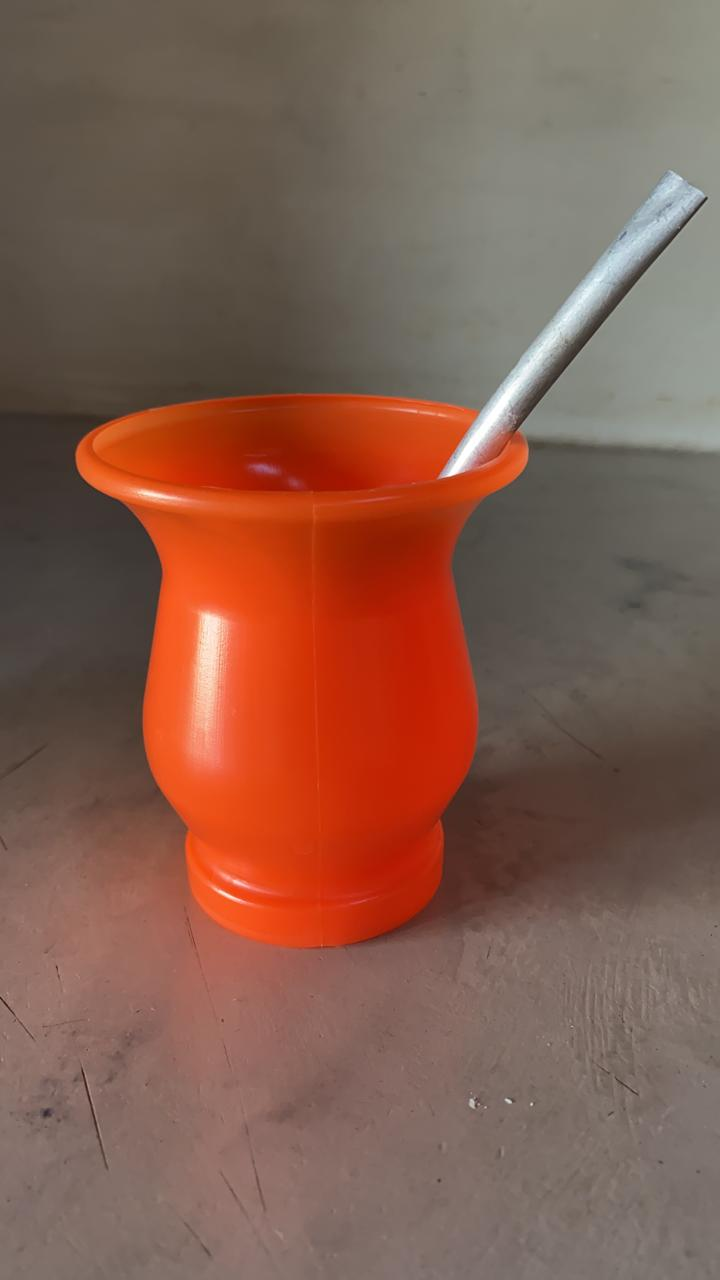mate: (74, 393, 535, 949)
